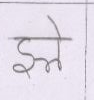o_matra: (51, 15, 65, 73)
